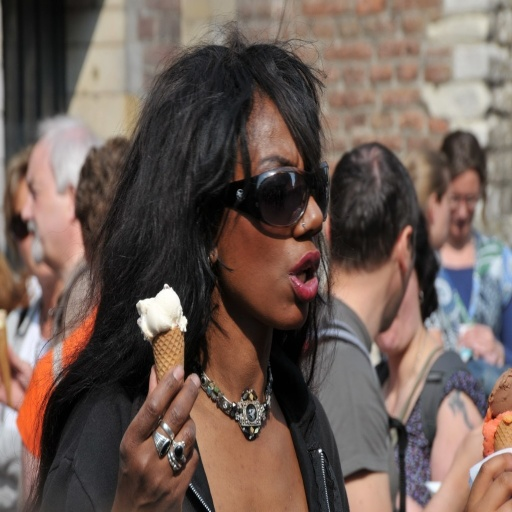hand: (108, 359, 202, 510), (464, 450, 511, 510), (0, 340, 33, 413), (455, 322, 504, 365)
